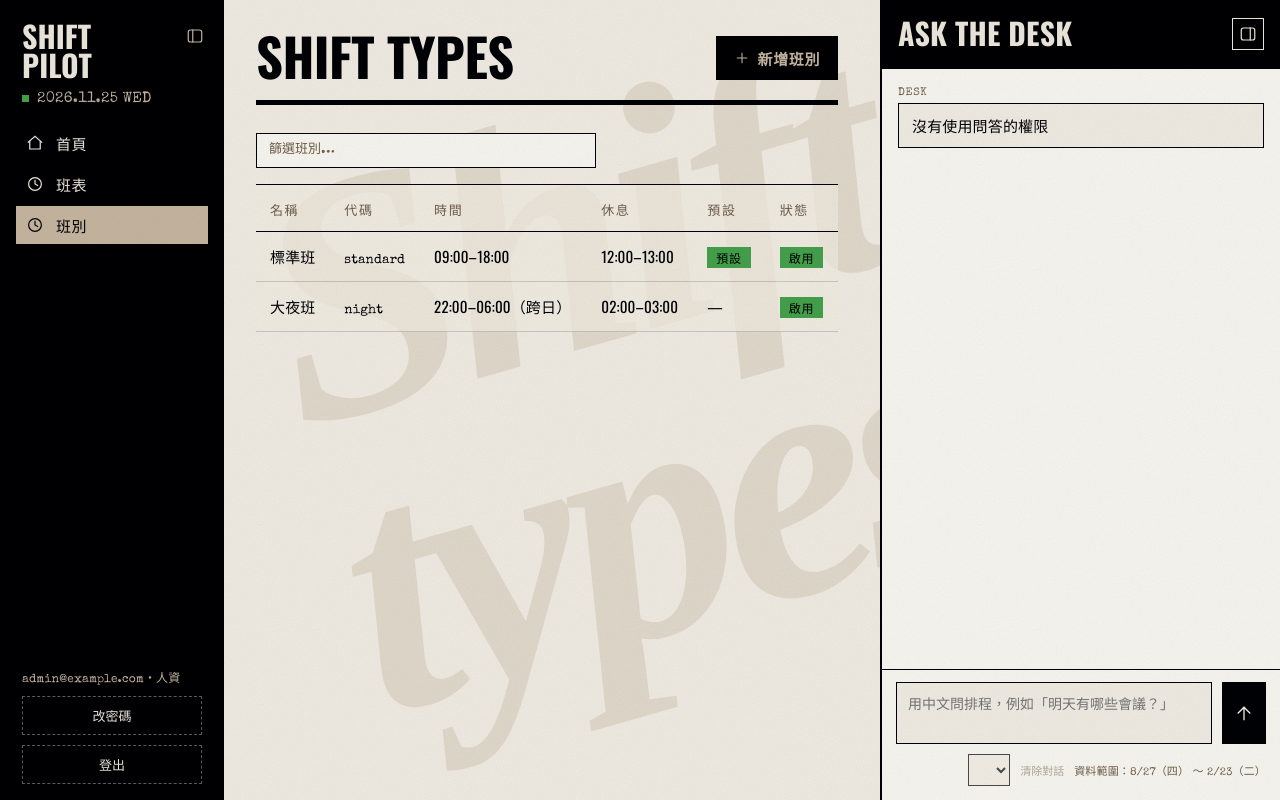
Test: testDefaultTypeCannotBeDeactivated
Click the text "標準班": (293, 257) [256, 232, 330, 282]
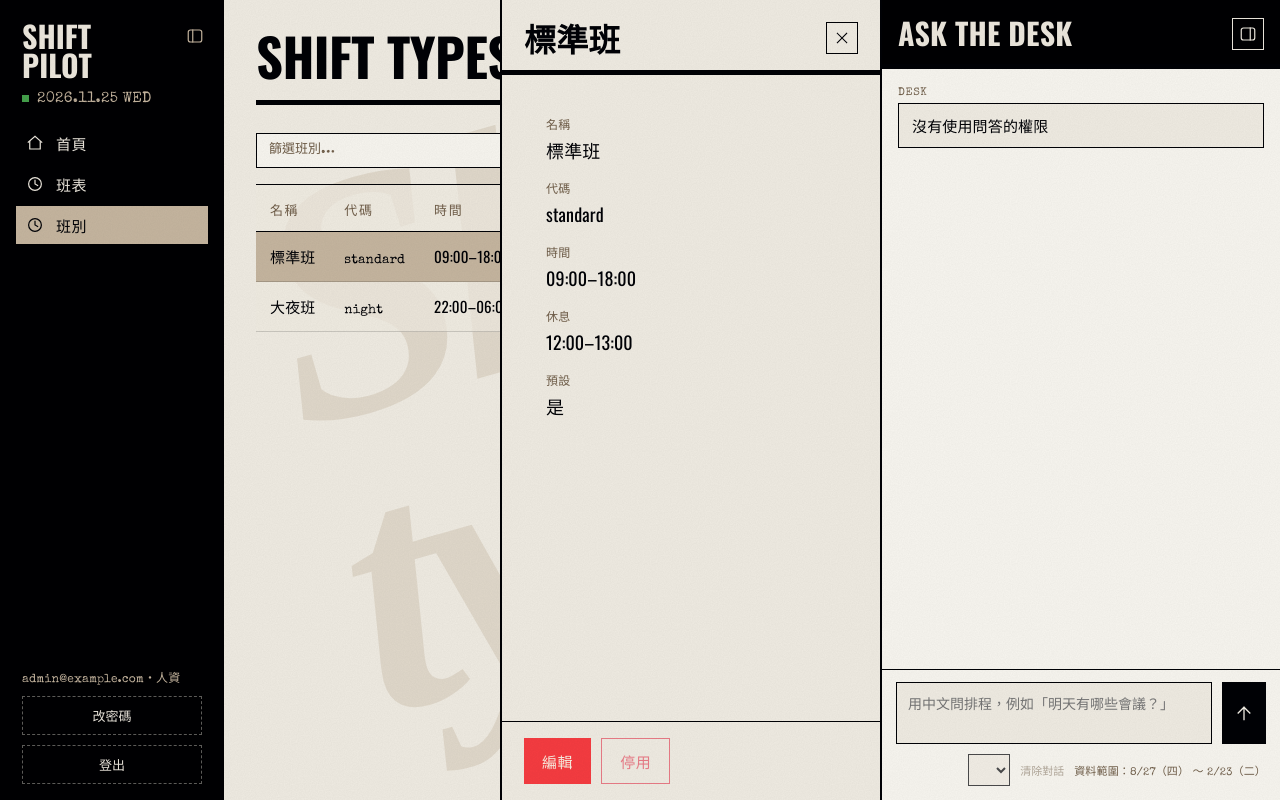
Result: the button "停用" is disabled at [601, 738, 670, 784]
